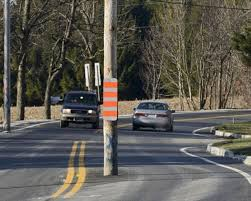car: (64, 87, 99, 133), (133, 100, 176, 134)
obstacle: (103, 1, 119, 181)
